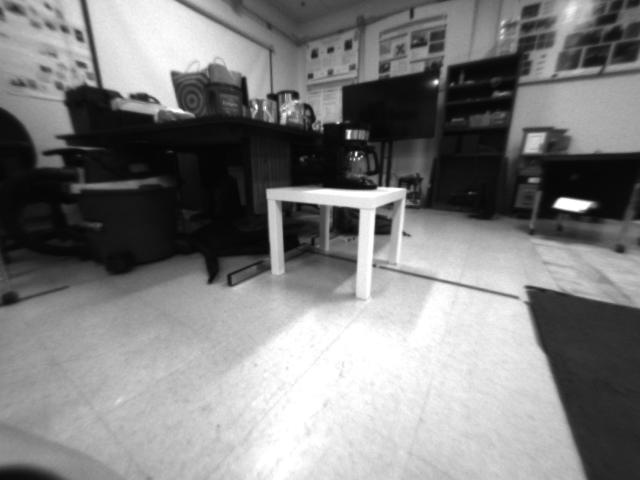coffee_pot: (319, 120, 382, 192)
